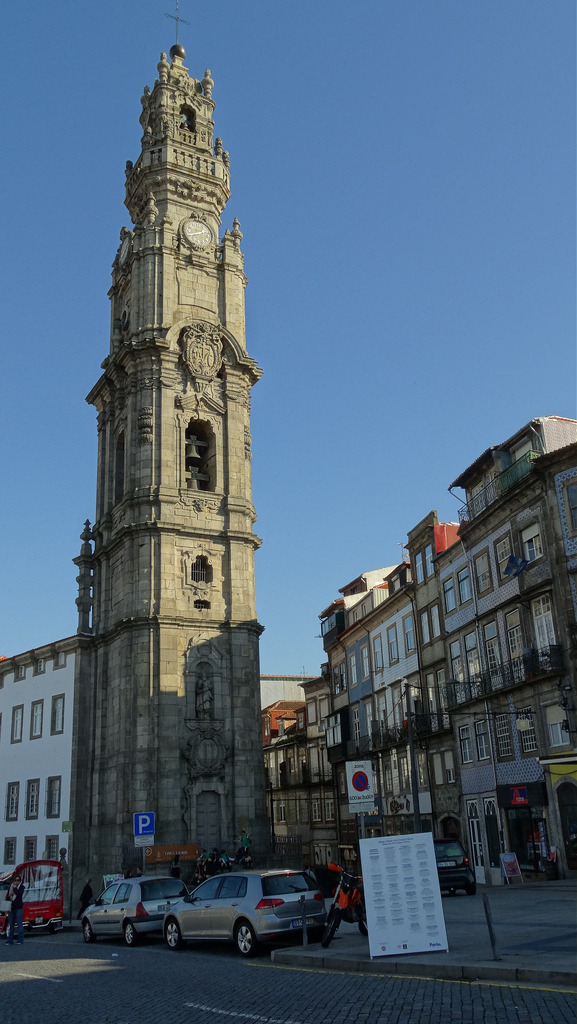clerigos: (66, 0, 279, 924)
